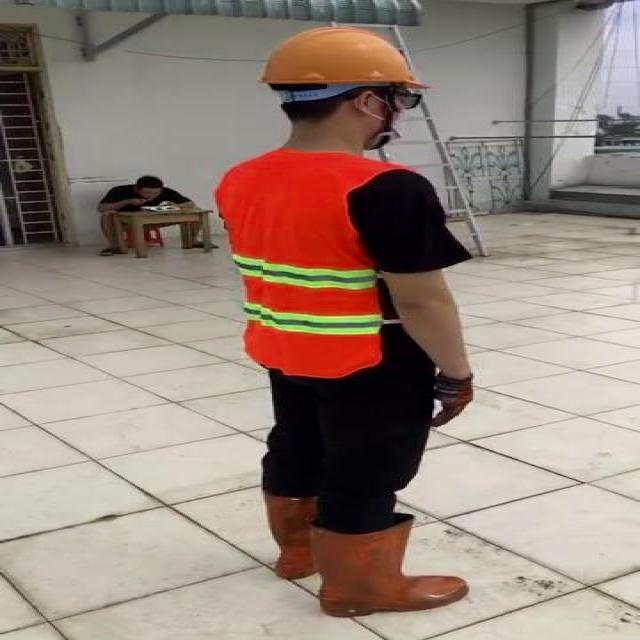boots: (311, 519, 466, 619), (262, 491, 318, 579)
hand_glove: (430, 374, 473, 428)
head_helmet: (254, 24, 430, 95)
person: (193, 21, 536, 630)
vest: (215, 151, 393, 377)
